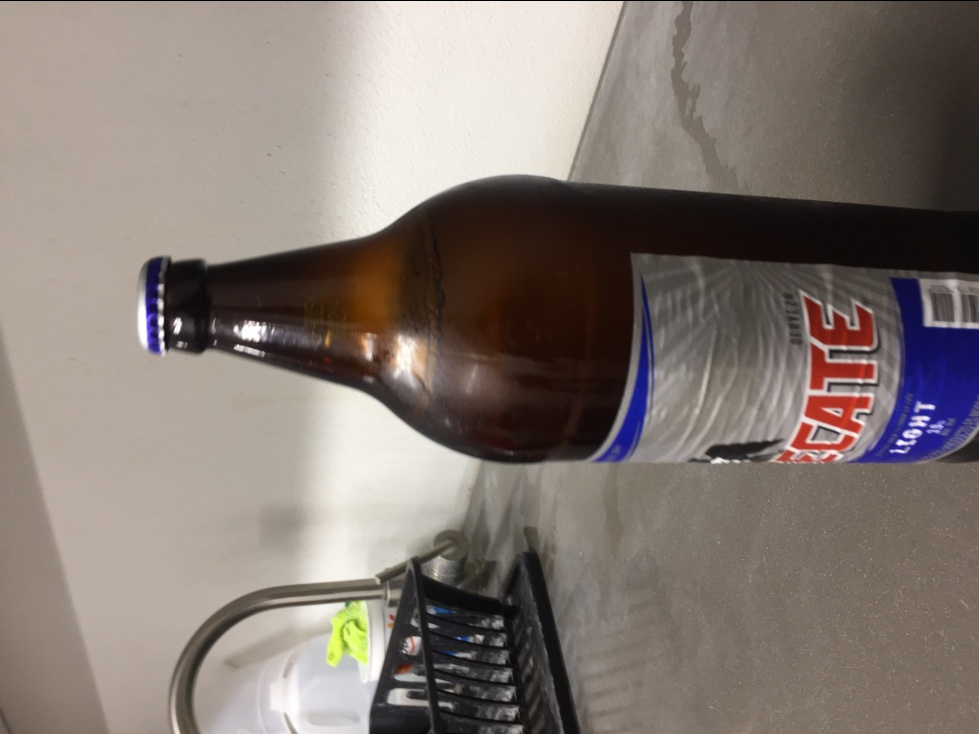tecateC: (137, 171, 979, 459)
